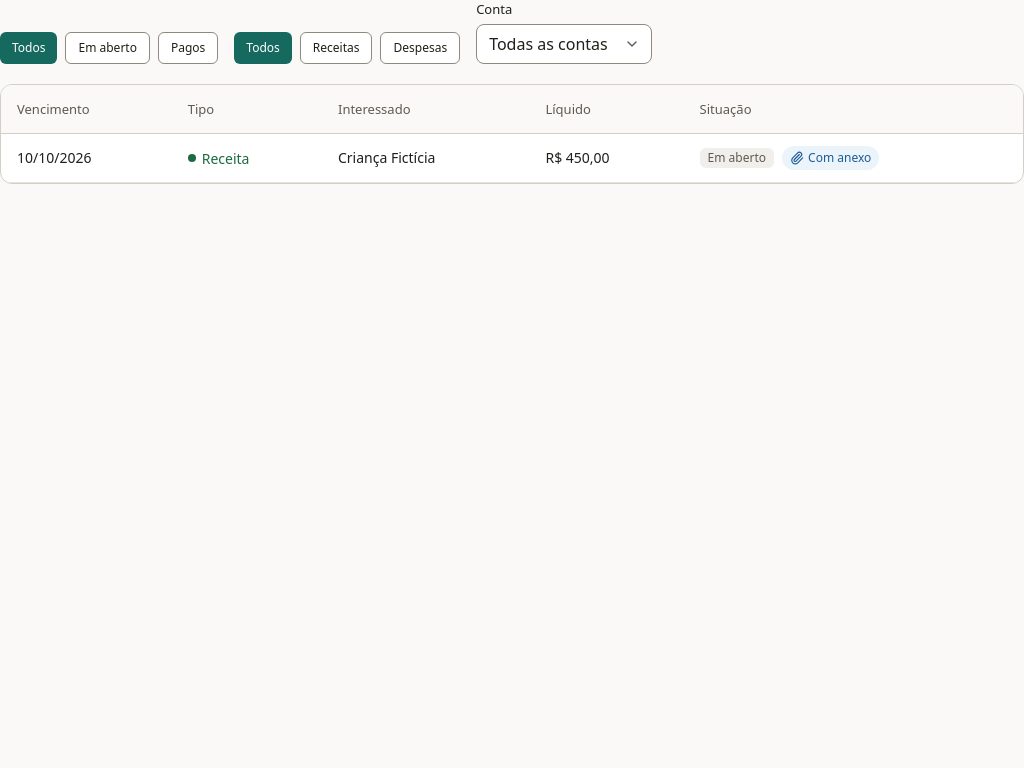
Test case: Lista de lançamentos — o selo "Com anexo" › deve abrir os arquivos pelo selo, para quem só vê lançamentos
Click the button with aria-label "Com anexo: ver os arquivos": [831, 158] box [782,146,879,170]
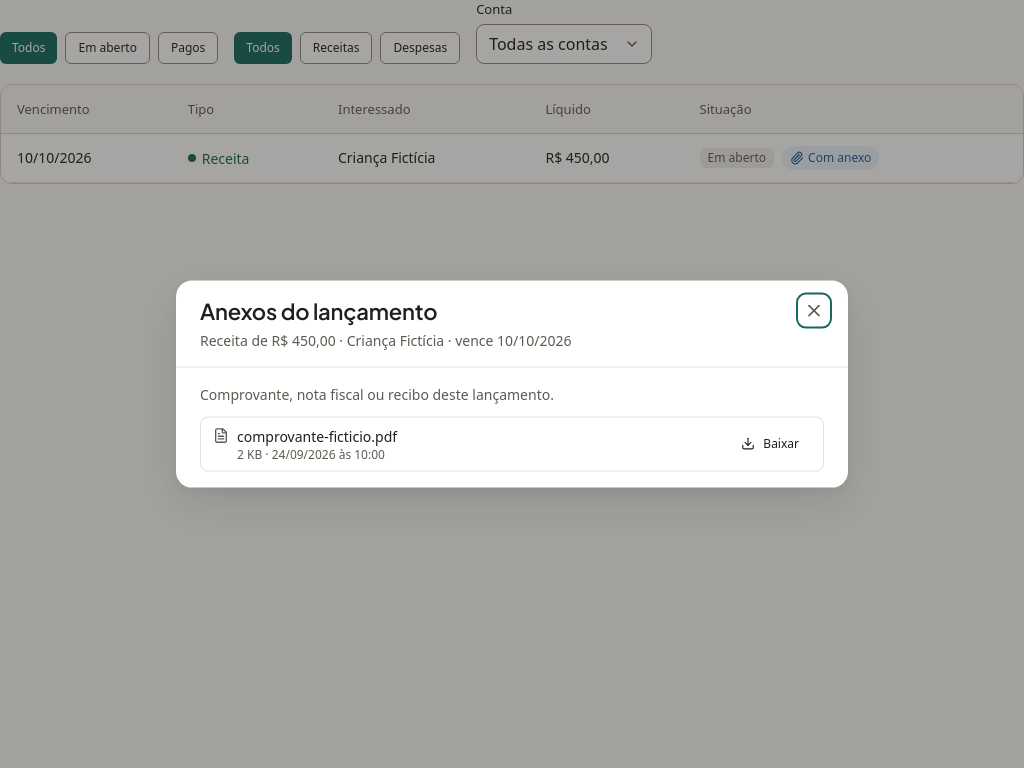
expect the text "comprovante-ficticio.pdf" is shown: met, box [237,425,397,446]
expect the button with aria-label "Baixar comprovante-ficticio.pdf" is shown: met, box [729,428,811,460]
